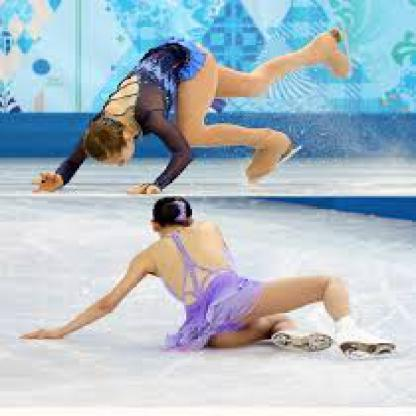Fall_Down: (29, 31, 355, 197)
